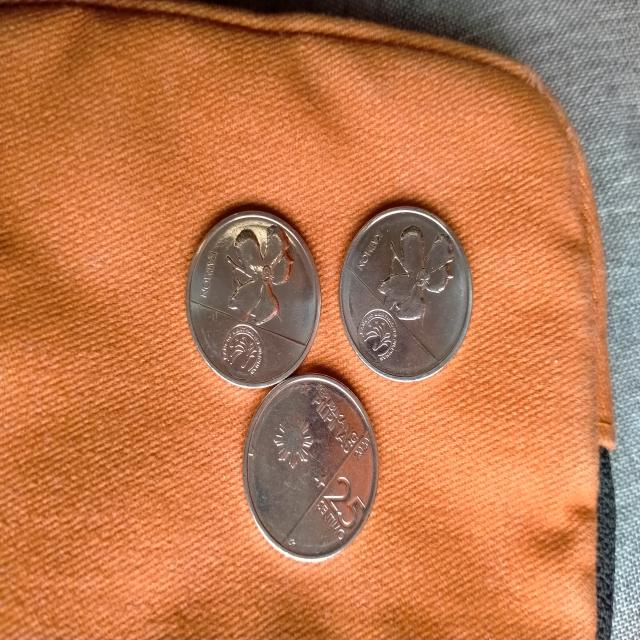25Cent_New_Back: (216, 224, 298, 318), (372, 226, 444, 309)
25Cent_New_Front: (314, 471, 366, 544)
